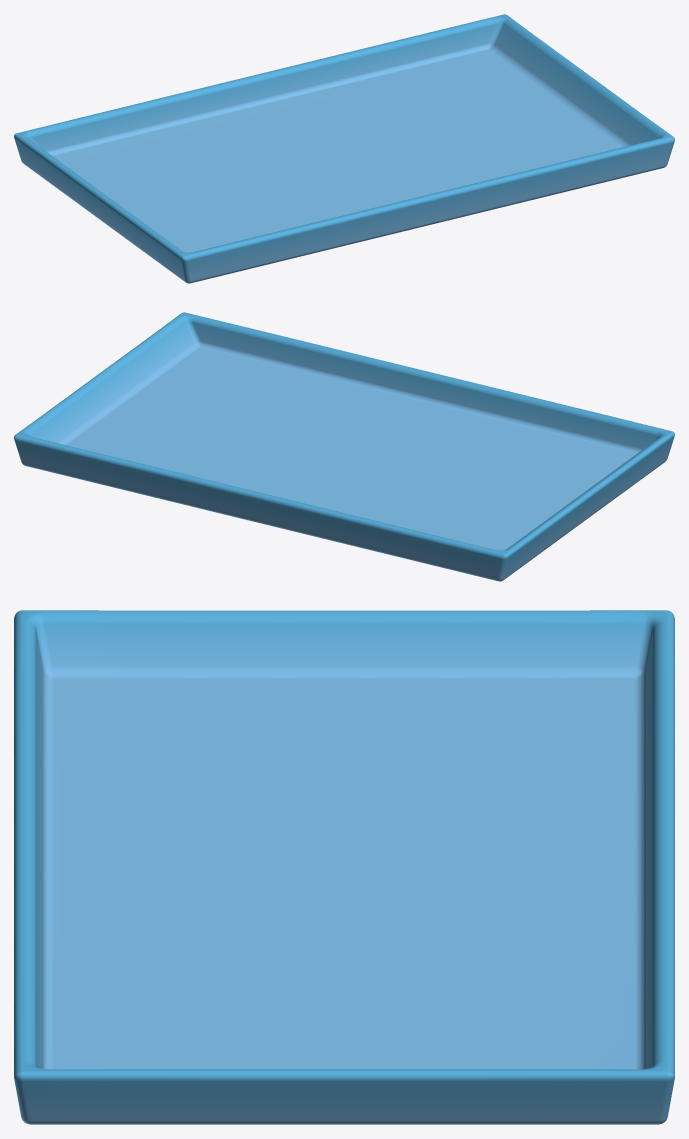
Rendered from HH_Tray.fbx.
3 views of the same model, one above another, from view 1: azimuth 30°, elevation 25°; view 2: azimuth 150°, elevation 25°; view 3: azimuth 270°, elevation 25° (orthographic). The views are drawn at different scales.
Parts seen in each view (by area): view 1: Tray; view 2: Tray; view 3: Tray.
Boxes of the visible parts, x1,y1,x2,y2 form: Tray: (14,14,674,283); Tray: (14,312,674,581); Tray: (14,610,674,1124).
Size of the model in its own units: 100 by 6 by 60.01.
Materials: 1 (1 with a texture image).
